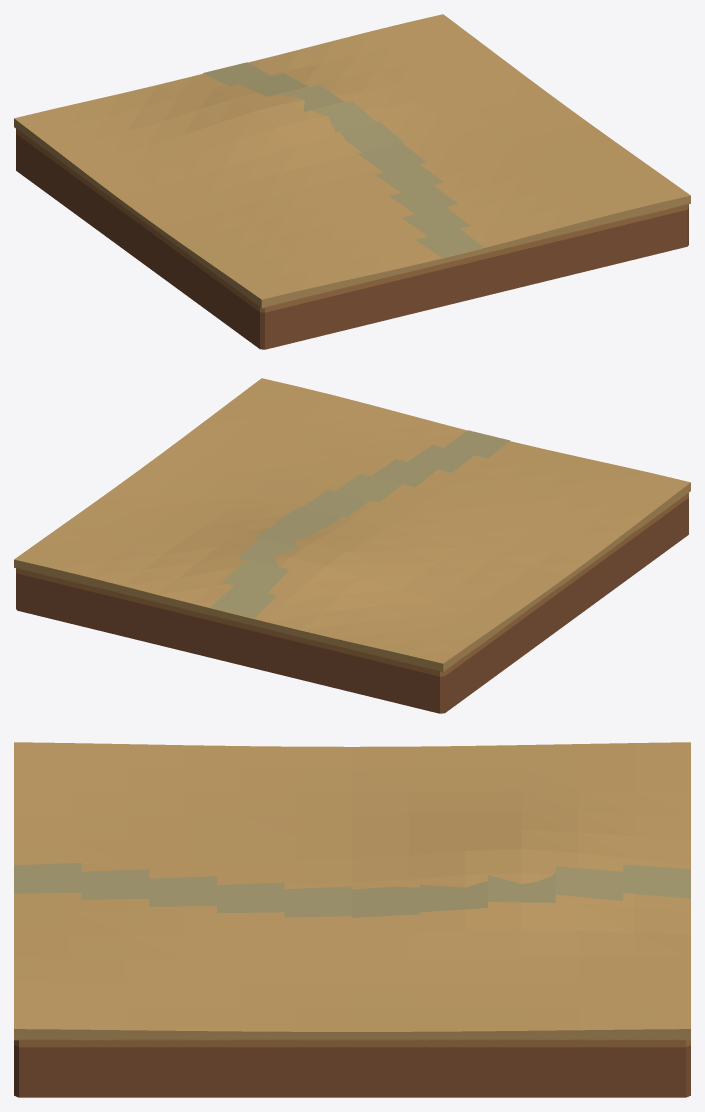
3 renders of one model, top to bottom at view 1: azimuth 30°, elevation 25°; view 2: azimuth 150°, elevation 25°; view 3: azimuth 270°, elevation 25°, orthographic. The views are drawn at different scales.
Parts seen in each view (by area): view 1: B09_沙地绿洲岸; view 2: B09_沙地绿洲岸; view 3: B09_沙地绿洲岸.
Part boxes in pixels (bbox=[...]): B09_沙地绿洲岸: bbox=[14, 14, 690, 349]; B09_沙地绿洲岸: bbox=[14, 378, 690, 713]; B09_沙地绿洲岸: bbox=[14, 742, 690, 1097].
Size of the model in its own units: 8 by 1.07 by 8.
